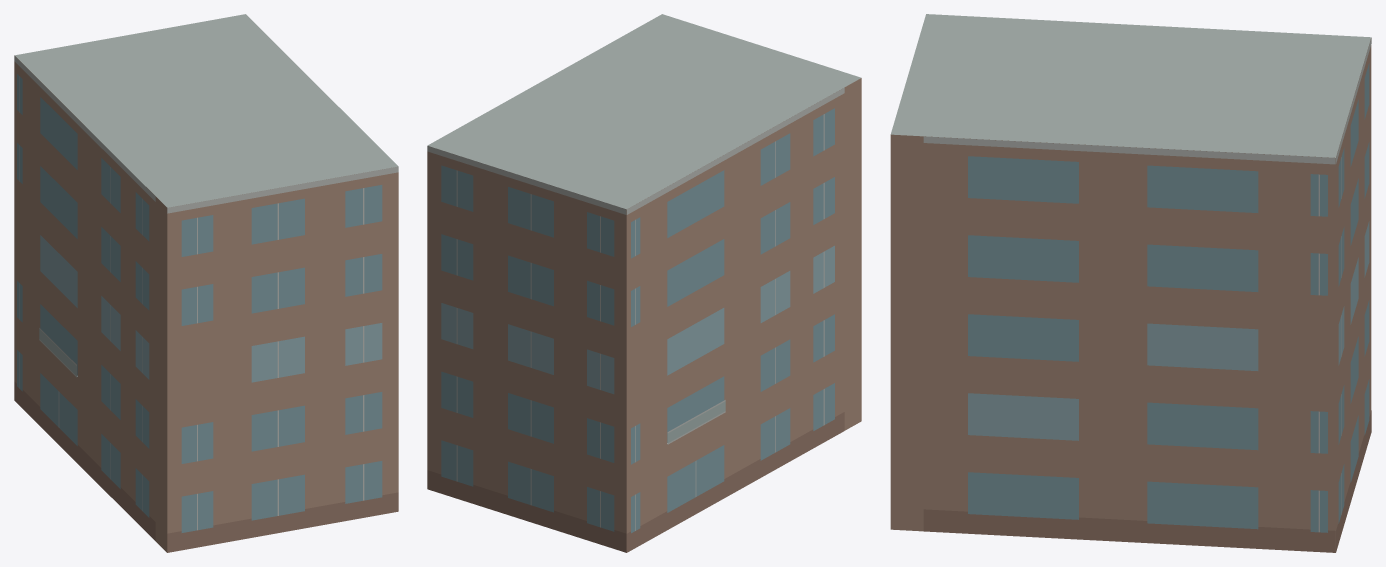
File: survey-upis-32620002.glb
3 views of the same model, side by side, from view 1: azimuth 30°, elevation 25°; view 2: azimuth 150°, elevation 25°; view 3: azimuth 270°, elevation 25° (orthographic). The views are drawn at different scales.
Parts seen in each view (by area): view 1: survey-upis-32620002.tmp; view 2: survey-upis-32620002.tmp; view 3: survey-upis-32620002.tmp.
Boxes of the visible parts, <box> form: survey-upis-32620002.tmp: <box>14,14,398,552</box>; survey-upis-32620002.tmp: <box>427,14,861,552</box>; survey-upis-32620002.tmp: <box>890,14,1371,552</box>.
Size of the model in its own units: 11.33 by 14.5 by 16.
